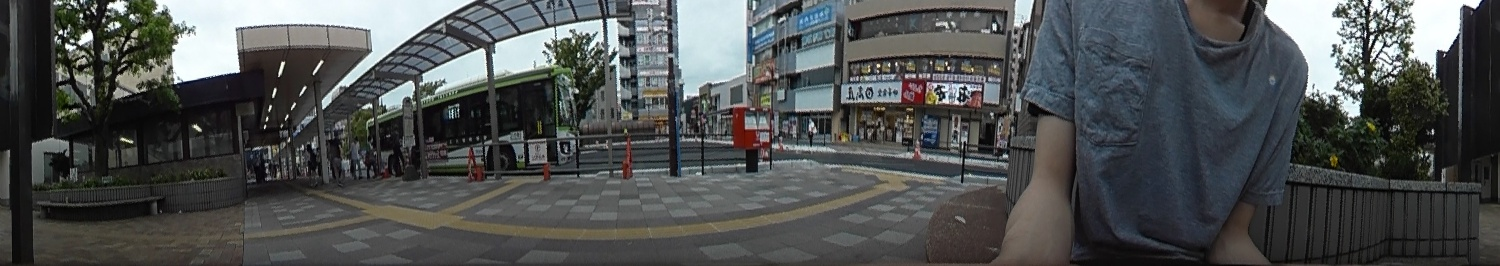difficult_person: (390, 128, 405, 169), (328, 131, 340, 178), (303, 144, 315, 182), (349, 136, 360, 177), (365, 135, 375, 176)
